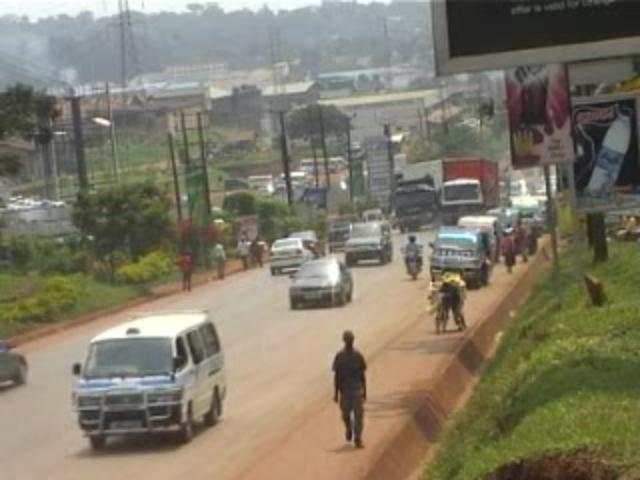car: (286, 260, 350, 309), (346, 223, 393, 265), (271, 237, 306, 268)
motorcycle: (405, 236, 421, 276)
truck: (440, 161, 486, 225), (394, 164, 435, 232)
van: (71, 309, 226, 445), (429, 225, 488, 292)
